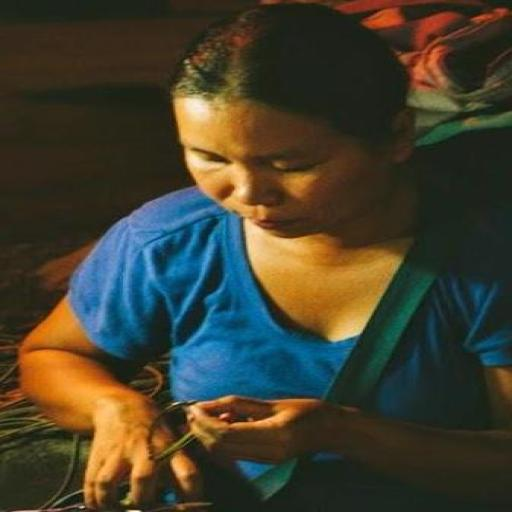person: (20, 4, 511, 511)
